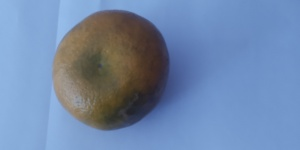BAD: (50, 9, 171, 131)
